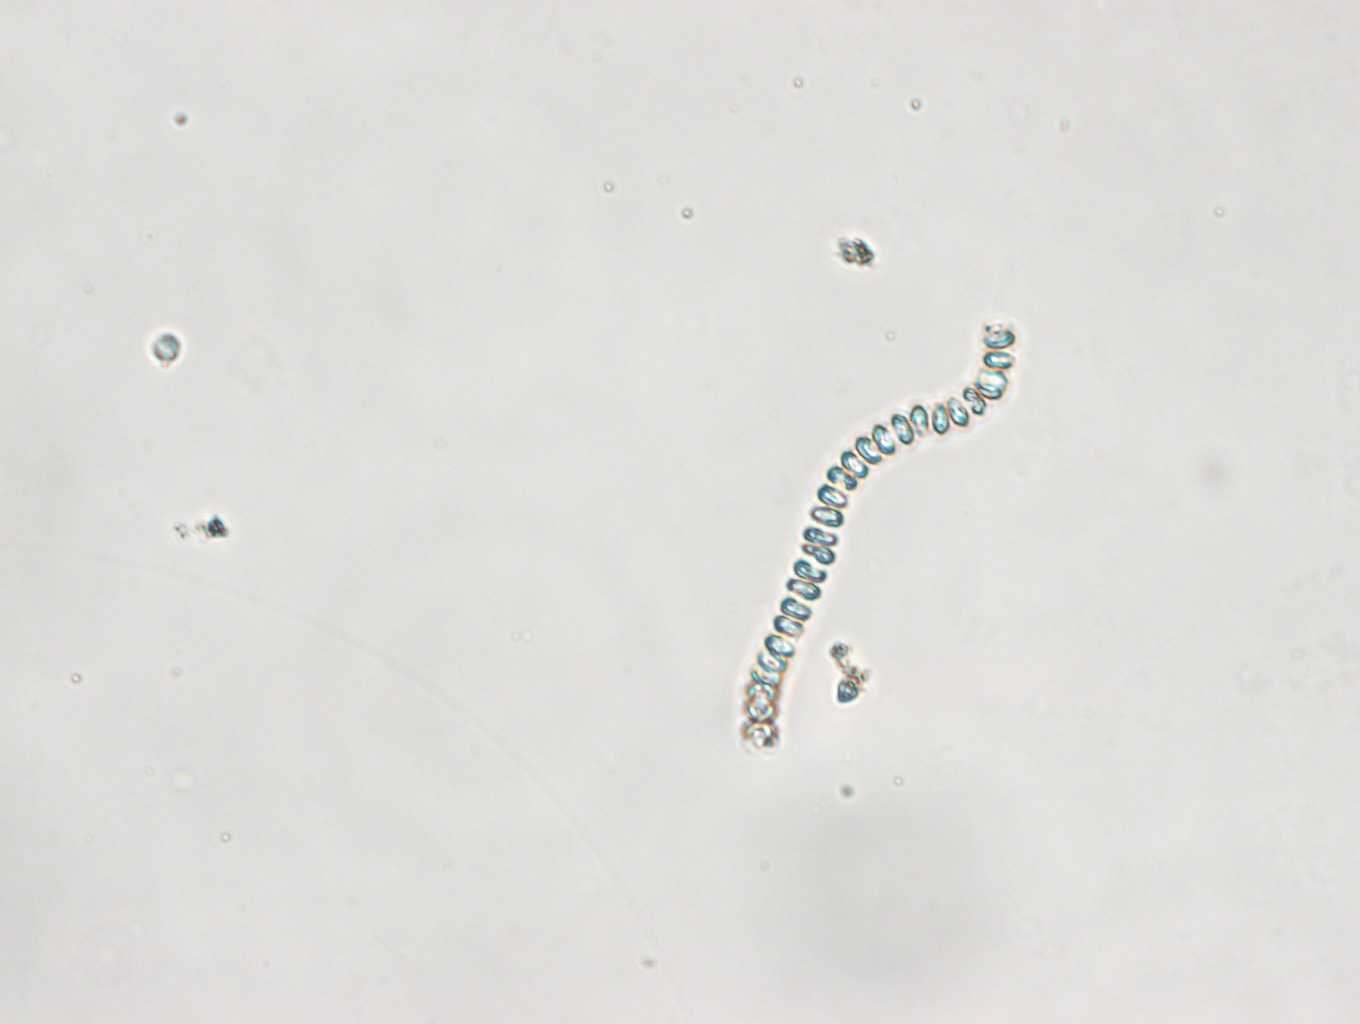skeletonema: (735, 317, 1018, 756)
